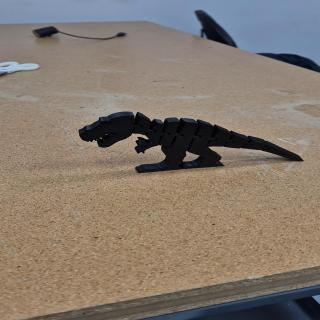dino: (77, 110, 305, 173)
